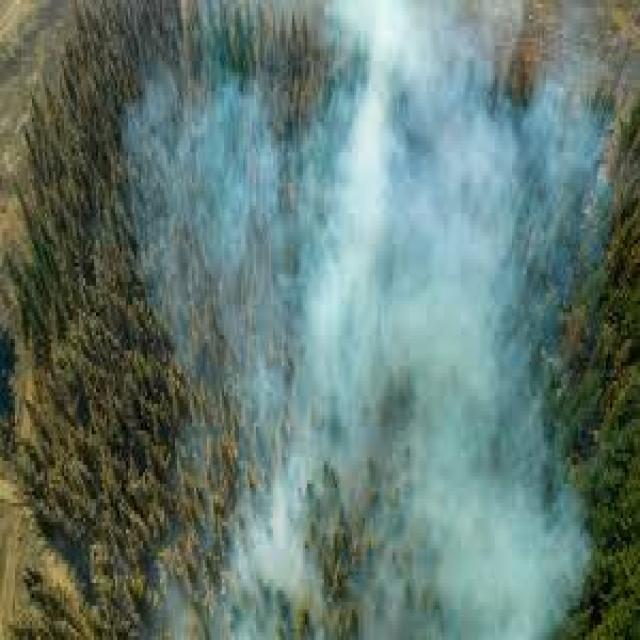Smoke: (126, 1, 627, 640)
